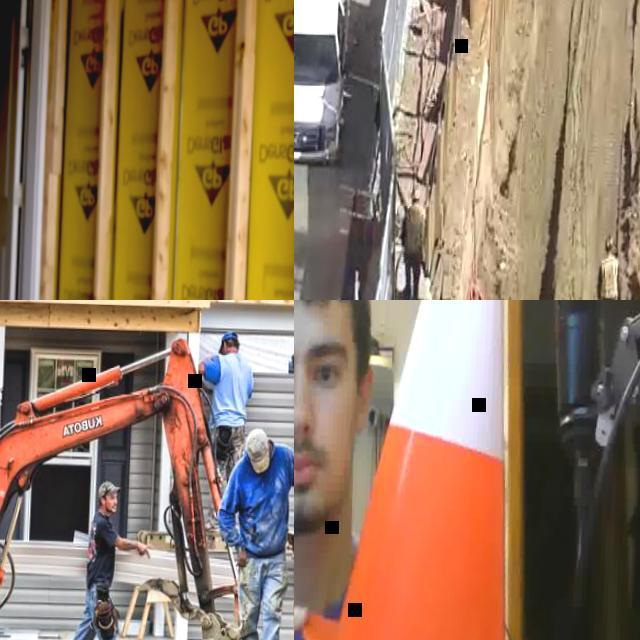helmet: (604, 236, 615, 251), (409, 189, 422, 199)
vest: (600, 258, 618, 298)
